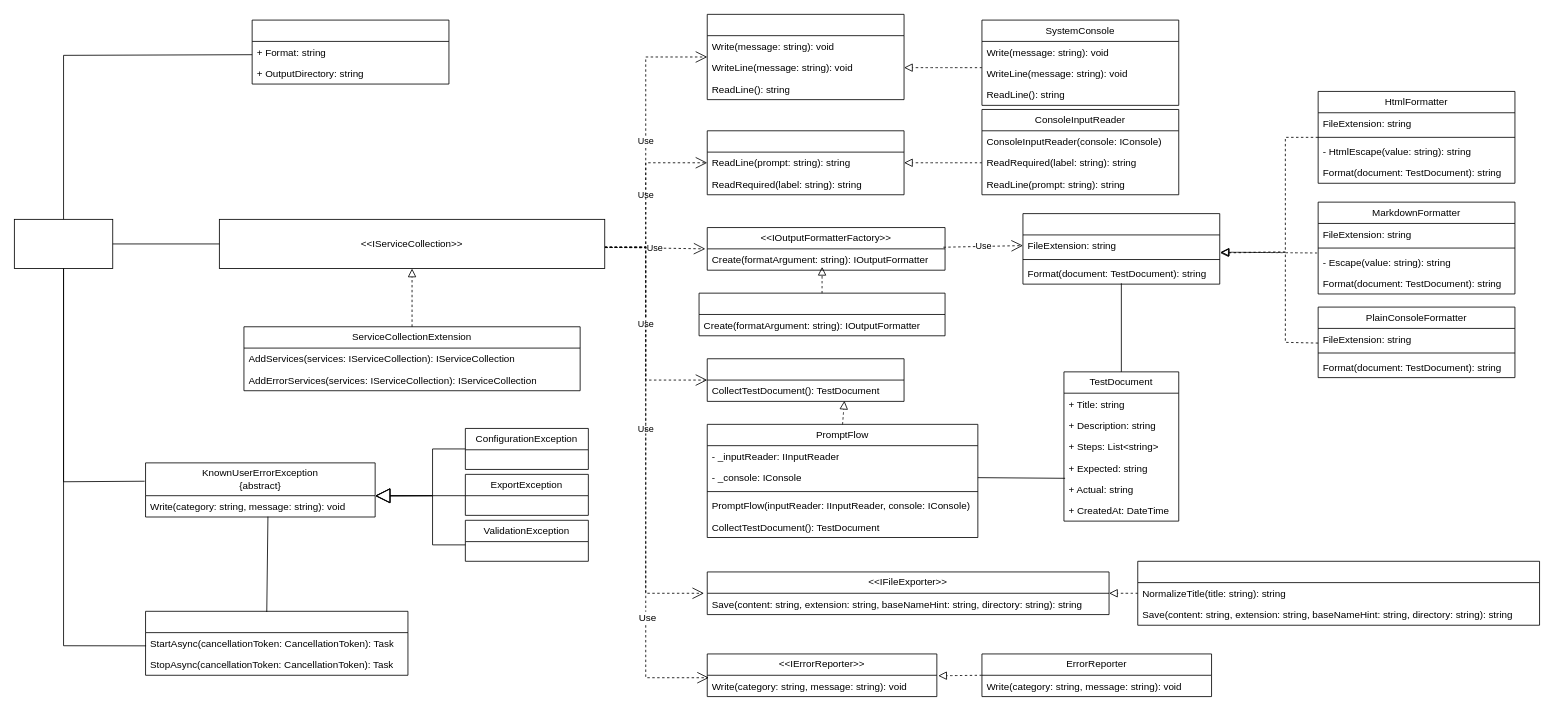
The diagram is 1554 pixels wide and 713 high, and some of its shapes have lost their labels. Here are the shapes that lost their labels. From the top down, the box of each, then its label:
(251, 19, 449, 84): AppSettings
(706, 14, 904, 100): <<IConsole>>
(706, 130, 904, 195): <<IInputReader>>
(14, 219, 113, 269): Program
(1022, 213, 1220, 284): << IOutputFormatter >>
(698, 292, 945, 336): OutputFormatterFactory
(706, 358, 904, 401): <<IPromptFlow>>
(1137, 560, 1540, 625): FileExporter
(145, 610, 408, 675): AppHostedService
